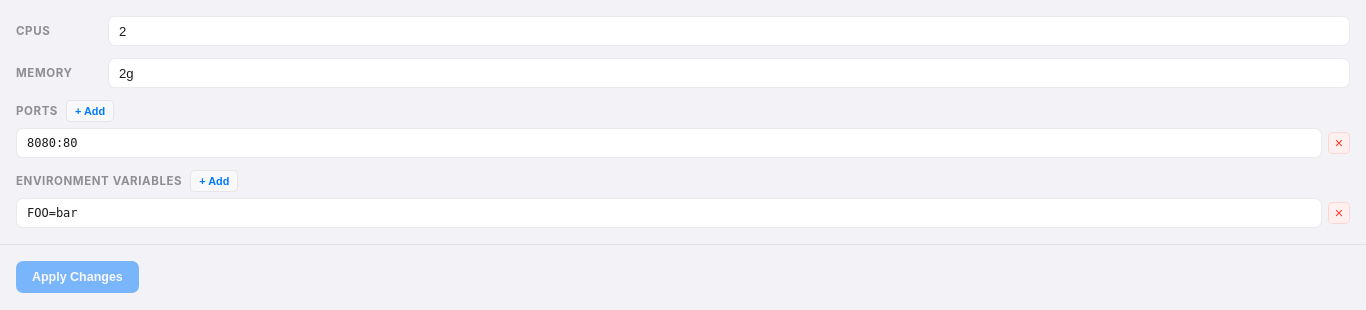
Test: ContainerSettings › shows the diff and the exact command before recreating
Replace the text in the number field with "4": (729, 31) x1=108 y1=16 x2=1350 y2=46
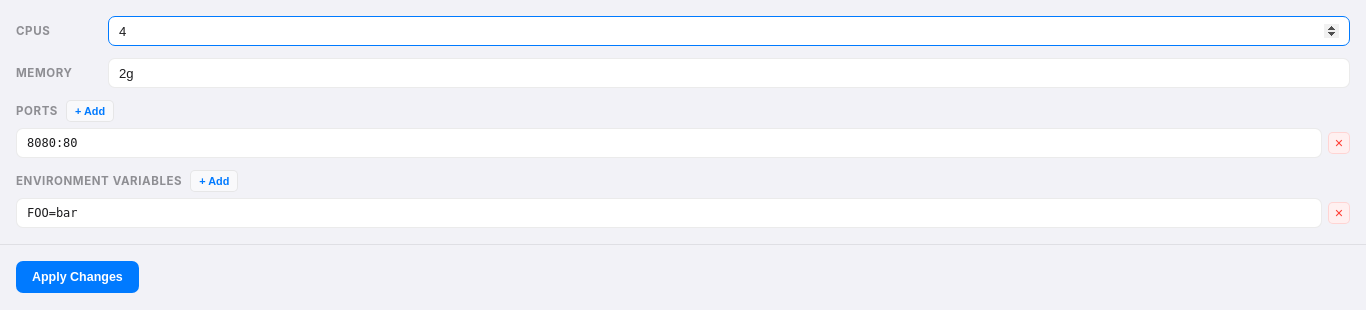
Click the button "Apply Changes": (77, 277) x1=16 y1=261 x2=139 y2=293
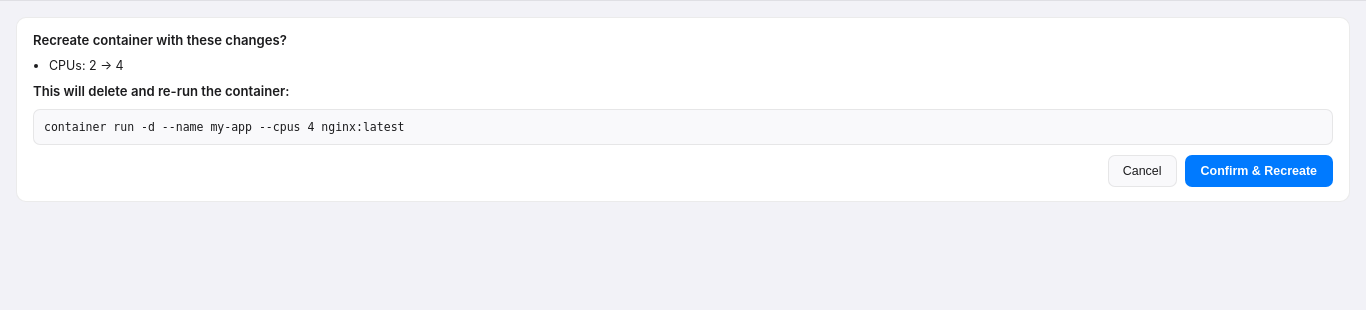
Expected: the list item "CPUs: 2 → 4" is shown, x1=49 y1=58 x2=124 y2=73
Expected: the text "container run -d --name my-app --cpus 4 nginx:latest" is shown, x1=33 y1=109 x2=1333 y2=145
